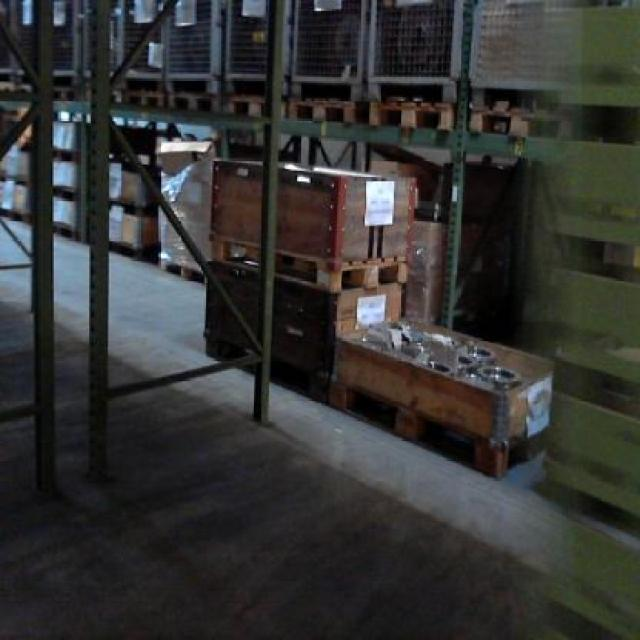pallet: (313, 368, 553, 489), (206, 231, 415, 297), (362, 91, 458, 132), (282, 95, 364, 121), (165, 88, 217, 121), (118, 81, 166, 116), (216, 96, 278, 116)
